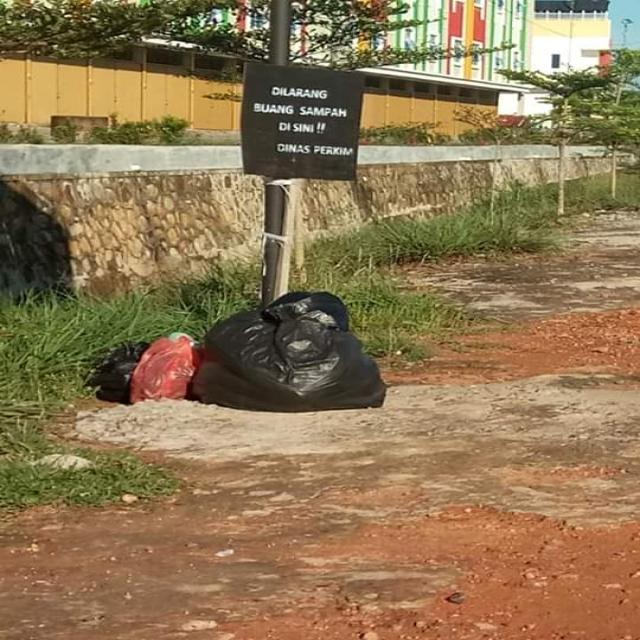Vinyl: (188, 286, 390, 416)
